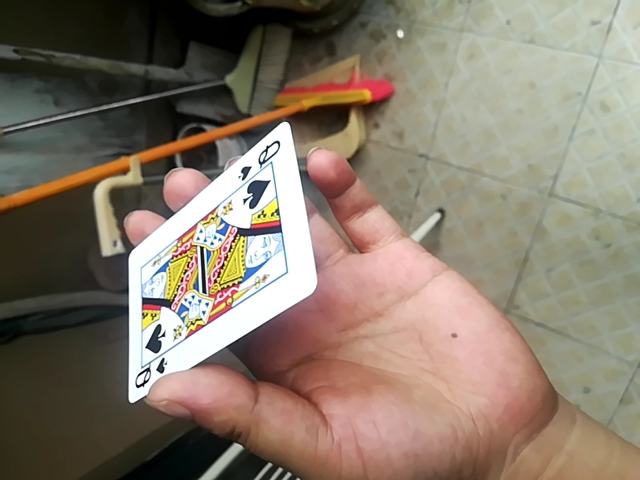ht q: (118, 119, 316, 410)
